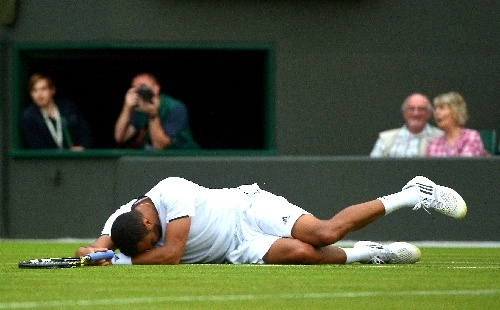falling: (76, 166, 459, 270)
